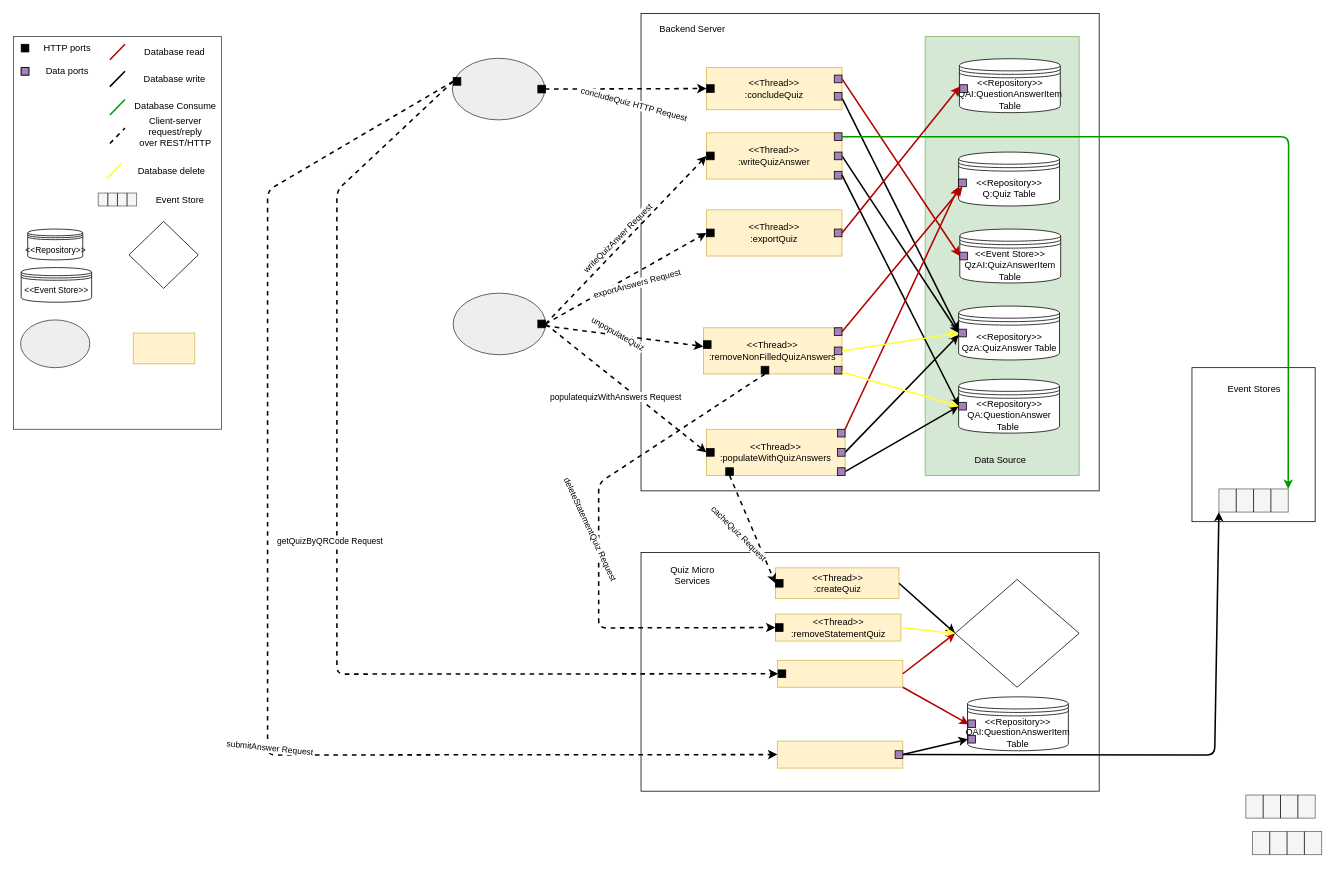
Some shapes in this 1335 by 869 pixel diagram are drawn without their labels. Each missing label, with the centre of its shape:
"<<Client>>" belongs at pixel 55 343.
"<<Client>> SC3: Student Client" belongs at pixel 498 89.
"<<Client>> Teacher Client" belongs at pixel 499 323.
"<<HashMap>>" belongs at pixel 163 254.
"<<HashMap>> (UserId, QuizId) -> StatementQuizDto" belongs at pixel 1016 633.
"<<Thread>>" belongs at pixel 163 348.
"<<Thread>> :getQuizByQRCode" belongs at pixel 840 673.
"<<Thread>> submitAnswer" belongs at pixel 840 754.
